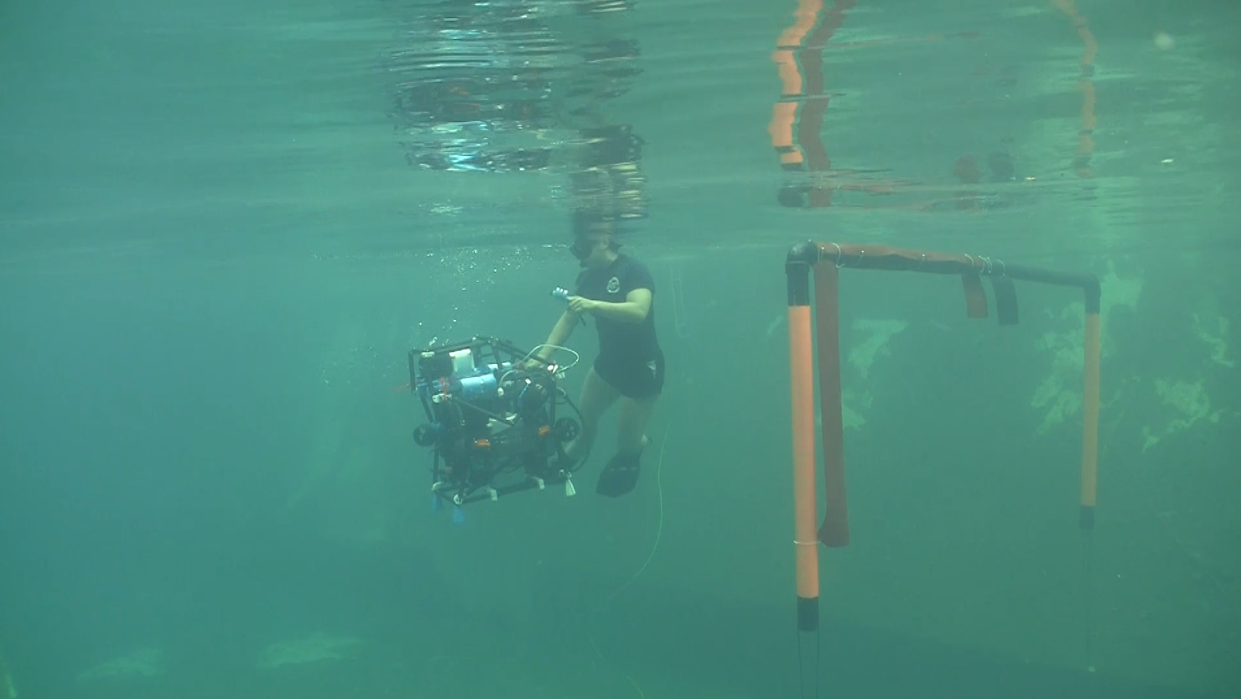gate: (762, 224, 1124, 618)
